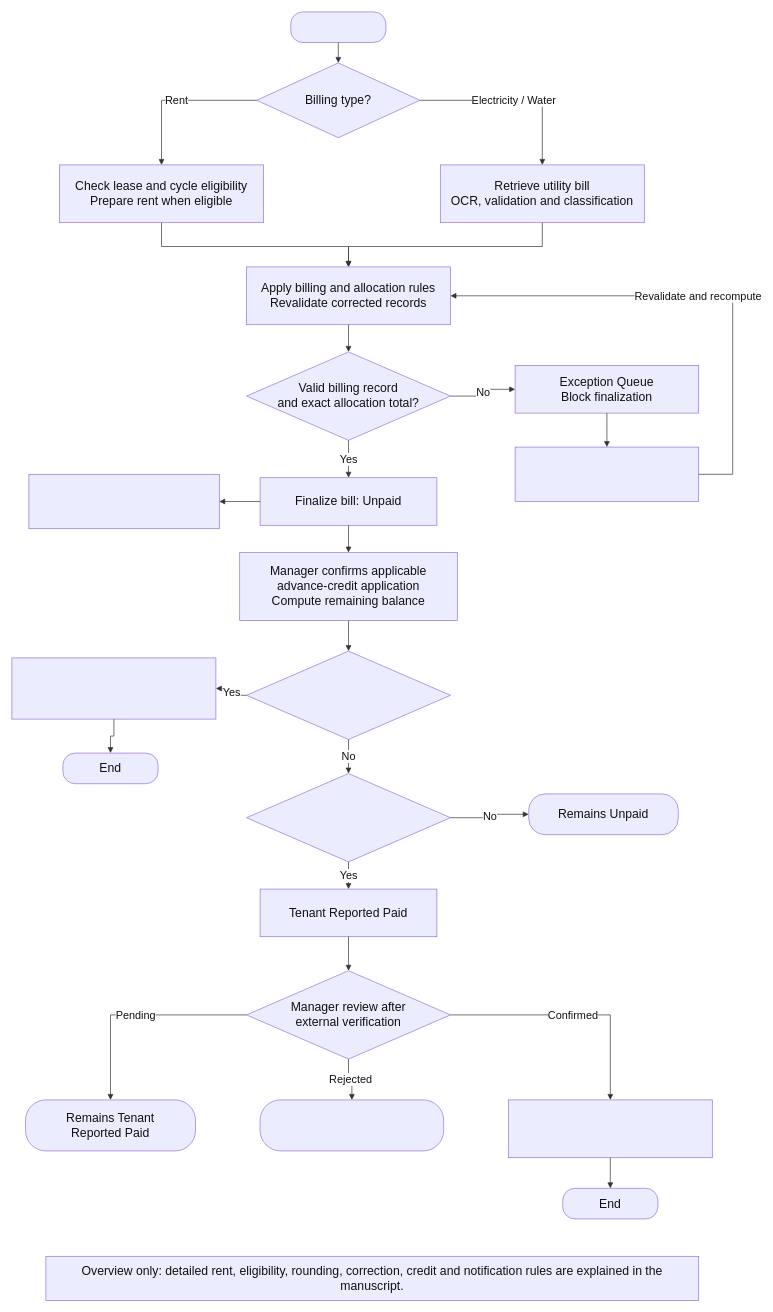
The diagram is 773 pixels wide and 1312 high, and some of its shapes have lost their labels. The shapes that lost their labels are listed below. From the top down, each one's box as (x1, y1, x2, y2) in pixels, then its label:
(290, 11, 386, 42): Start
(514, 446, 699, 502): Manager review and correction Retain history
(28, 474, 219, 529): Permitted Web Push alerts Authenticated portal access
(11, 657, 216, 719): Paid: retain original payment/receipt No new cash payment or receipt
(246, 650, 451, 740): Final rent fully covered by confirmed advance credit?
(246, 773, 451, 862): Full outstanding balance payment reported?
(259, 1099, 444, 1151): Record reason and history Return to Unpaid
(508, 1099, 712, 1158): Paid: issue digital receipt Repeat confirmation reuses receipt
